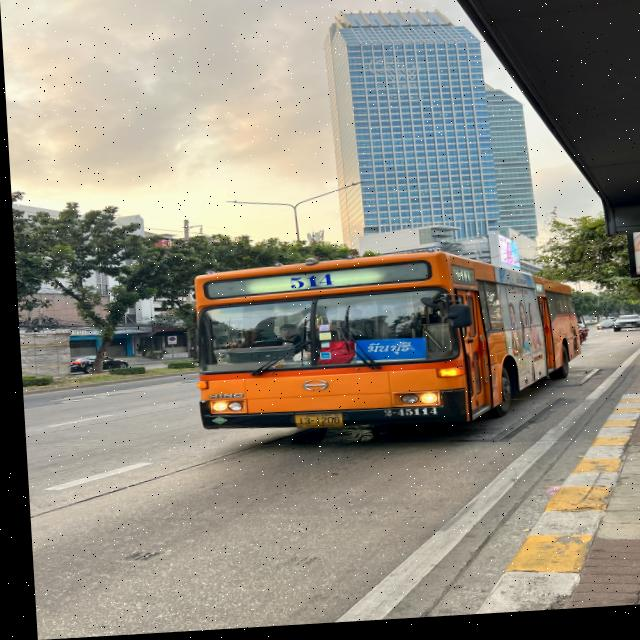BMTA-bus: (178, 247, 582, 447)
Bus-Line-Number: (281, 276, 335, 294), (450, 271, 470, 291)
Destination-Sign-Normal: (348, 342, 423, 367)
